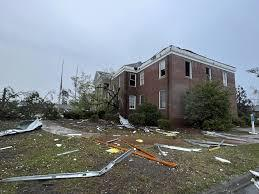major: (94, 51, 244, 136)
